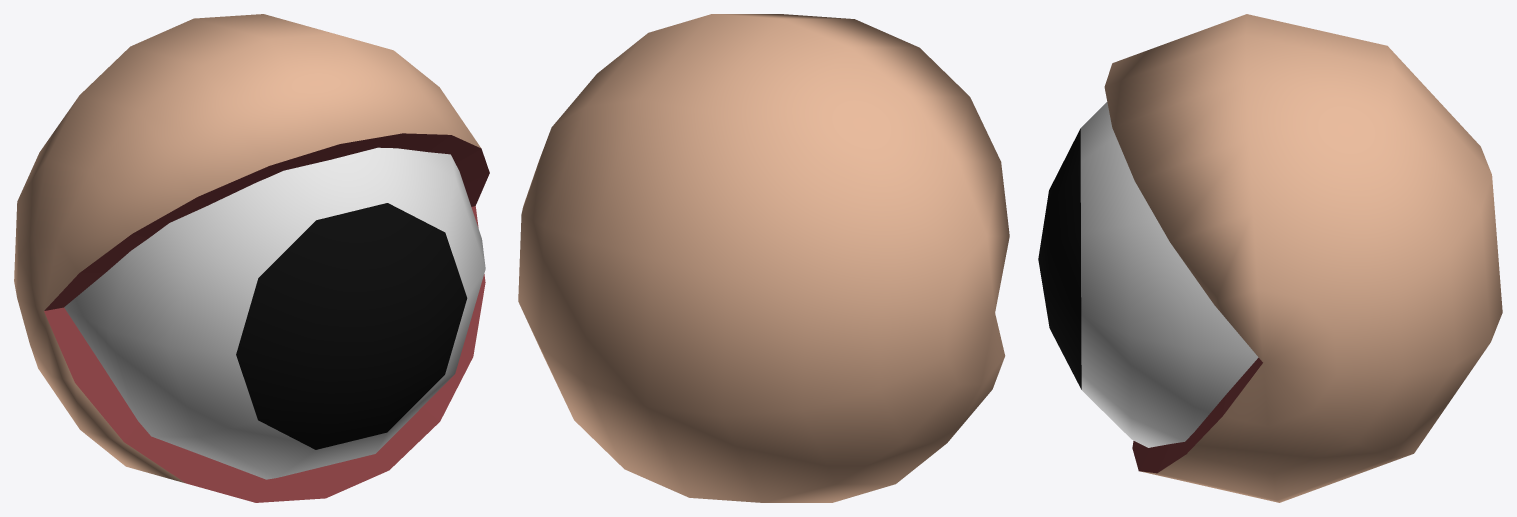
The picture shows the model from 3 angles, left to right: view 1: azimuth 30°, elevation 25°; view 2: azimuth 150°, elevation 25°; view 3: azimuth 270°, elevation 25°; orthographic projection. The views are drawn at different scales.
Visible parts, largest first — view 1: node_id84, node_id79; view 2: node_id79; view 3: node_id79, node_id84.
Part boxes in pixels (x1,y1,x2,y2): node_id84: (64,147,485,479); node_id79: (14,14,489,502); node_id79: (518,14,1009,502); node_id79: (1104,14,1502,502); node_id84: (1038,102,1258,447).
Bounding box in the file's own units: 0.0798 × 0.0796 × 0.0751.
